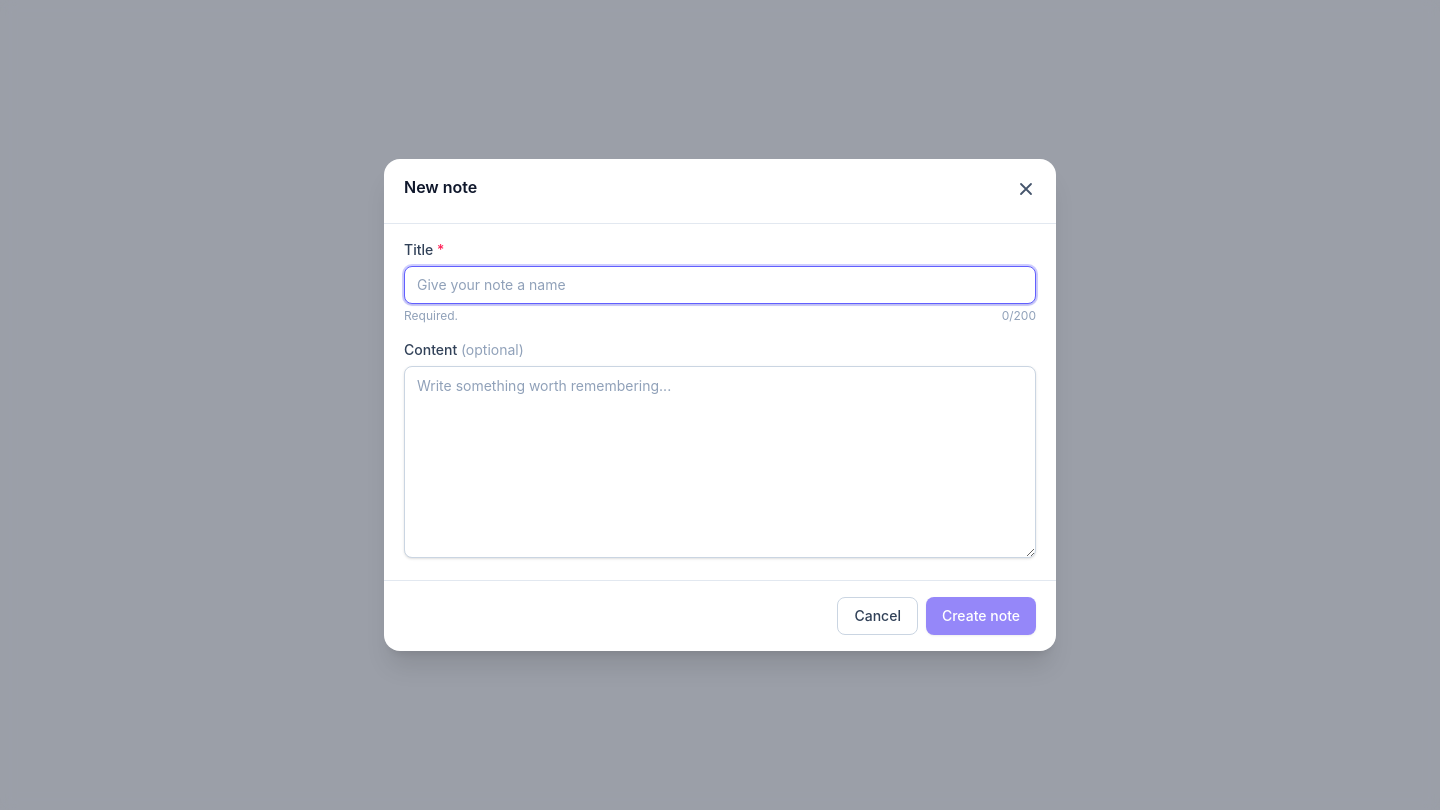
Test: NoteEditorDialog › will not save without a title
Expected: the button "Create note" is disabled, [926, 597, 1036, 635]
Type "Something" into the field with id "note-title". click: (720, 285)
box: [404, 266, 1036, 304]
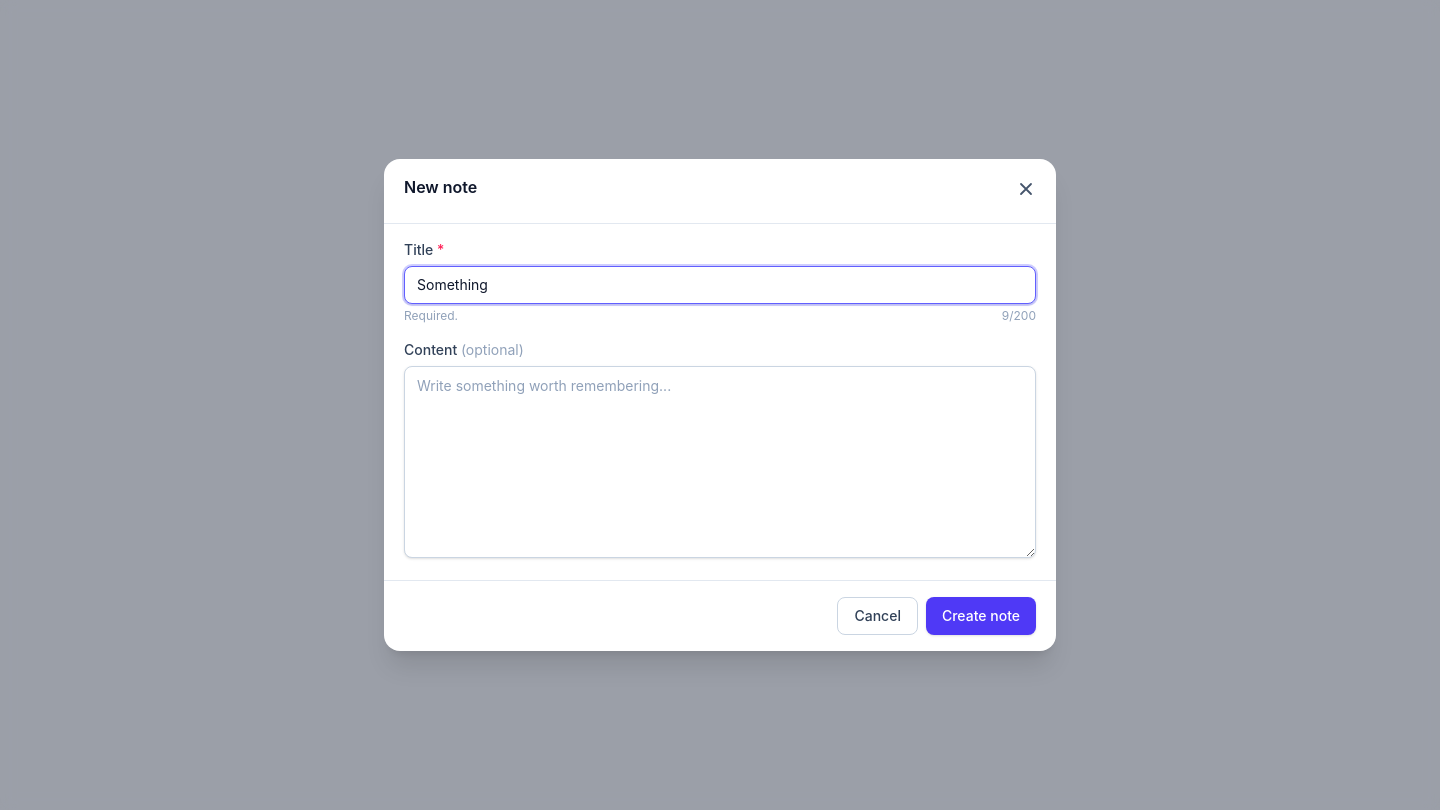
Now the button "Create note" is enabled, box [926, 597, 1036, 635]
